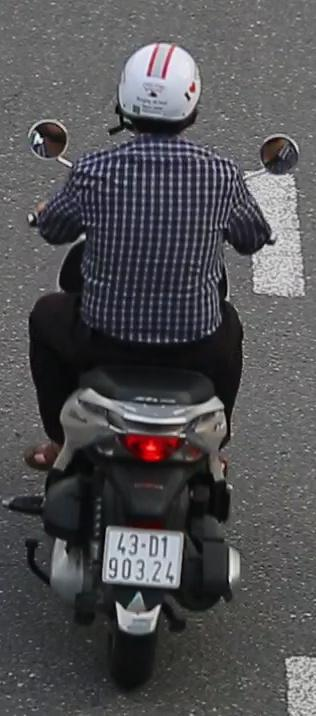LP: (100, 520, 187, 592)
helmet: (116, 37, 208, 138)
